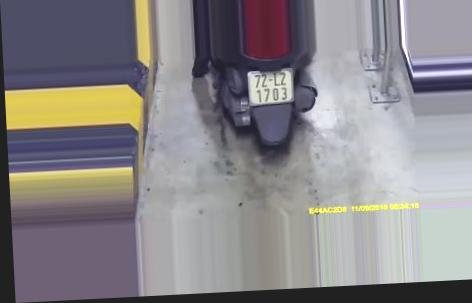License_Plate: (245, 67, 296, 108)
